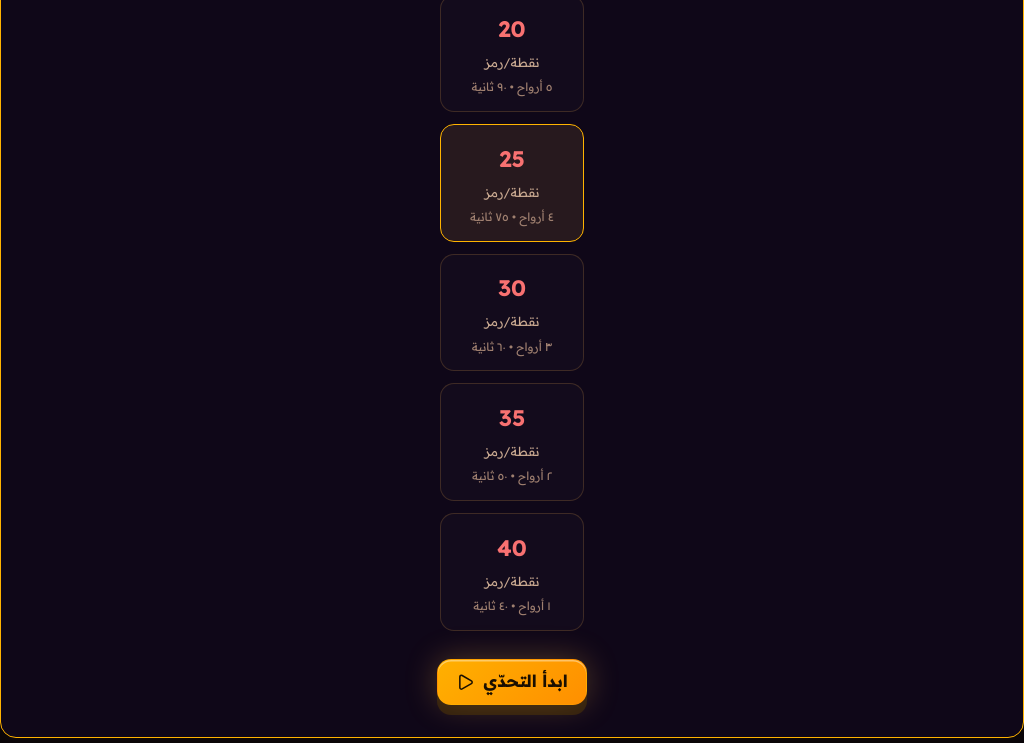
it: MemoryFlash › starts the memory game with accessible symbols
The image size is (1024, 743).
(page scrolled)
Click the button "ابدأ التحدّي".
click(512, 682)  # box [437, 659, 587, 705]
(page scrolled)
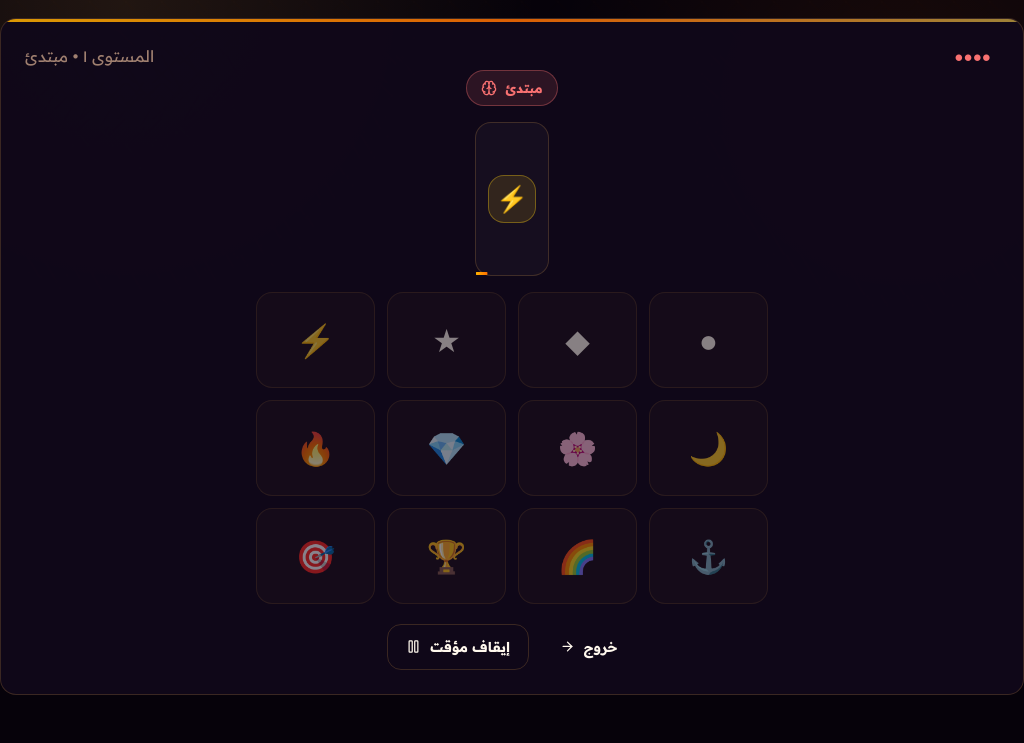
Expected: the button named "برق" is shown, [256, 292, 375, 388]
Expected: the button named "نجمة" is shown, [387, 292, 506, 388]
Expected: the text "المستوى ١ • مبتدئ" is shown, [25, 43, 154, 70]
